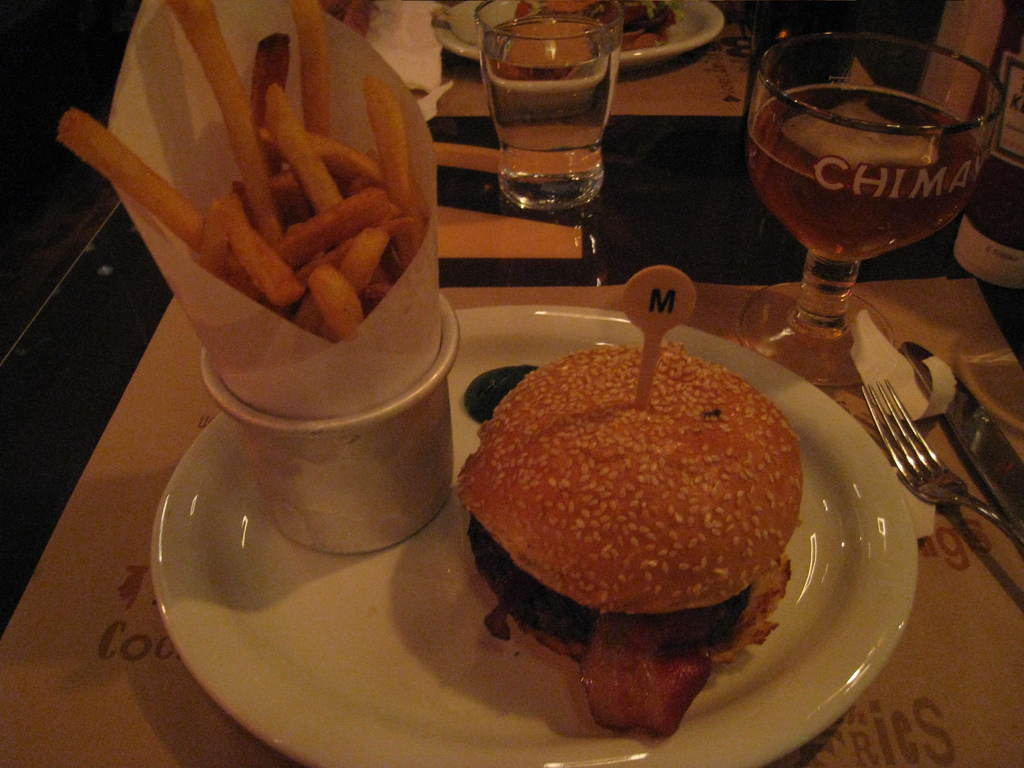French fries: (77, 46, 439, 351)
